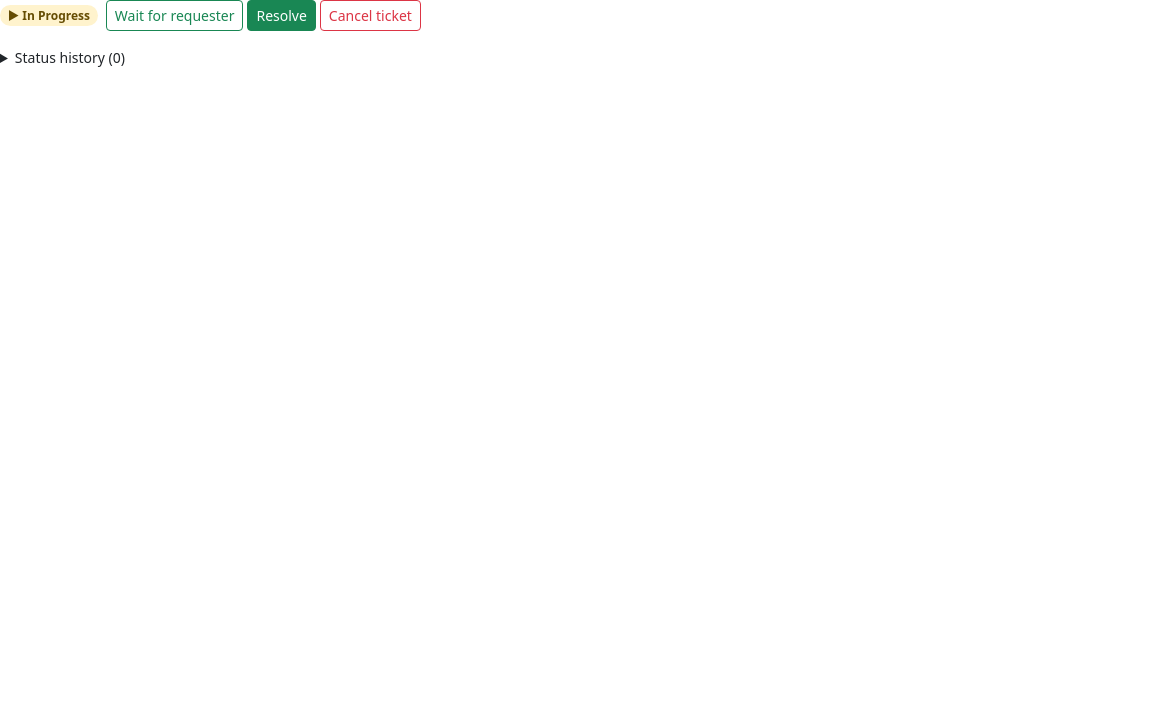
TicketWorkflowControl › UI-12 cancel dialog requires a reason, traps focus and closes with Escape
This screenshot has width=1152, height=720.
Expected: the heading "Status history (0)" is shown, [15,48,125,67]
Click the button "Cancel ticket": {"x": 370, "y": 16} [320,0,421,31]
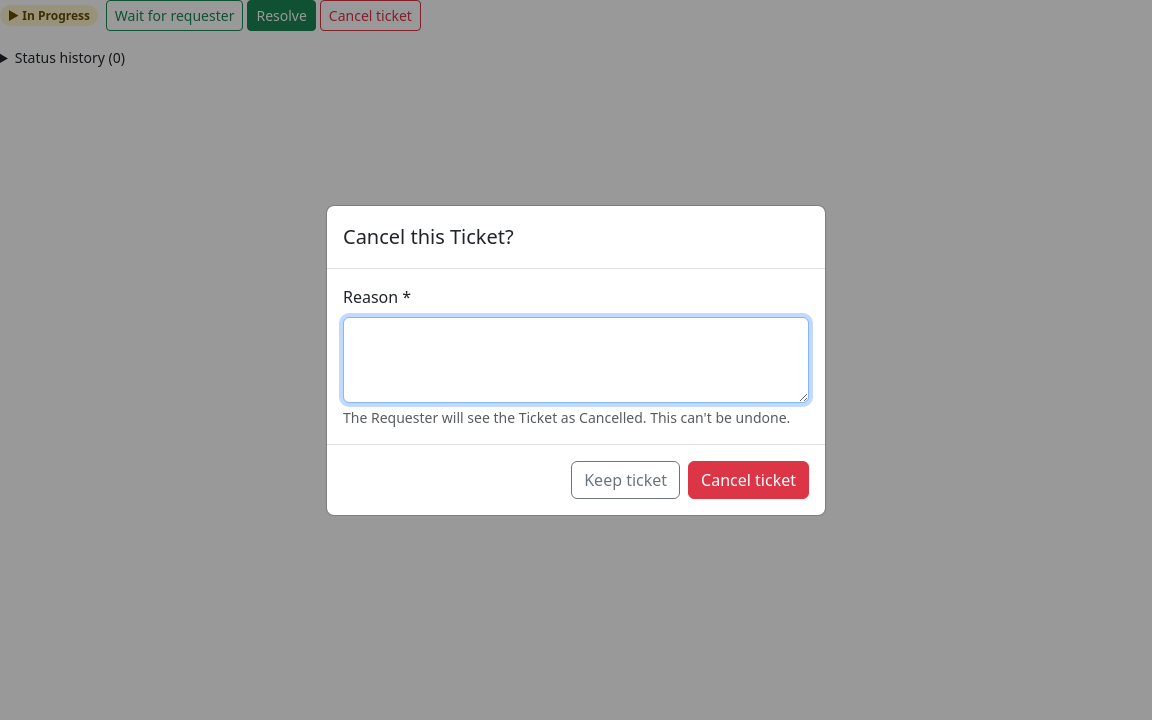
# Confirm without a reason → error, no request
Click the button "Cancel ticket": {"x": 749, "y": 480} [688,460,809,498]
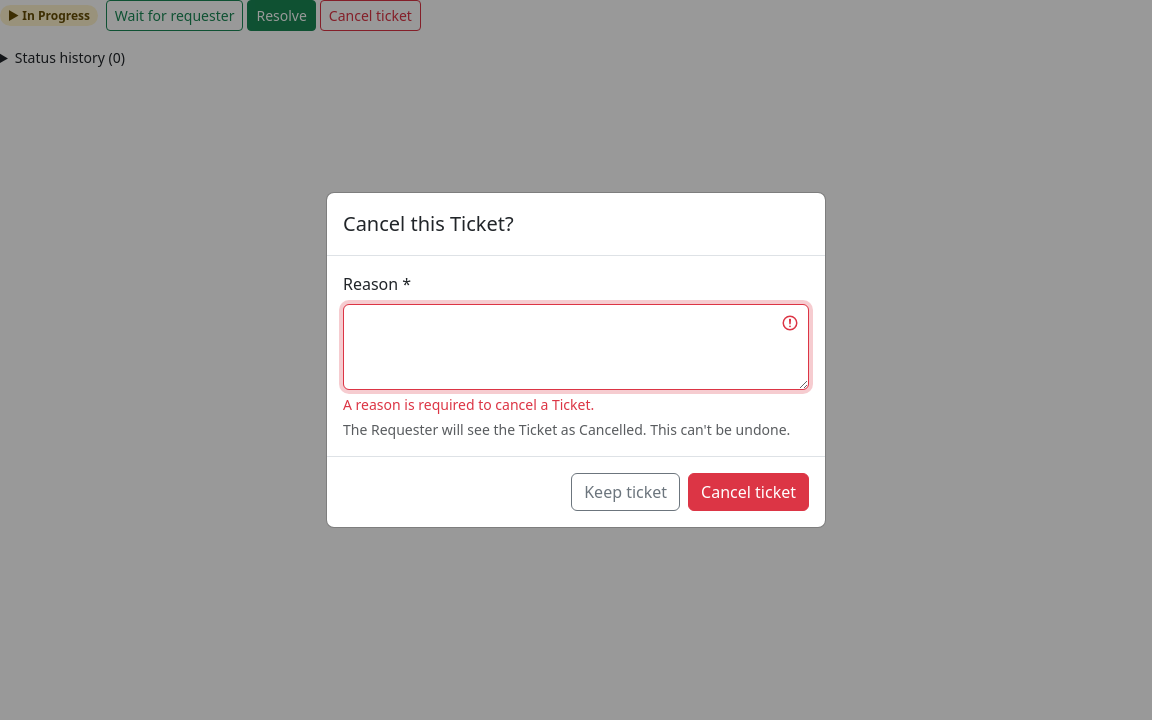
Expected: the text "A reason is required to cancel a Ticket." is shown, [343,395,594,414]
# Tab cycles inside the dialog
Press Tab
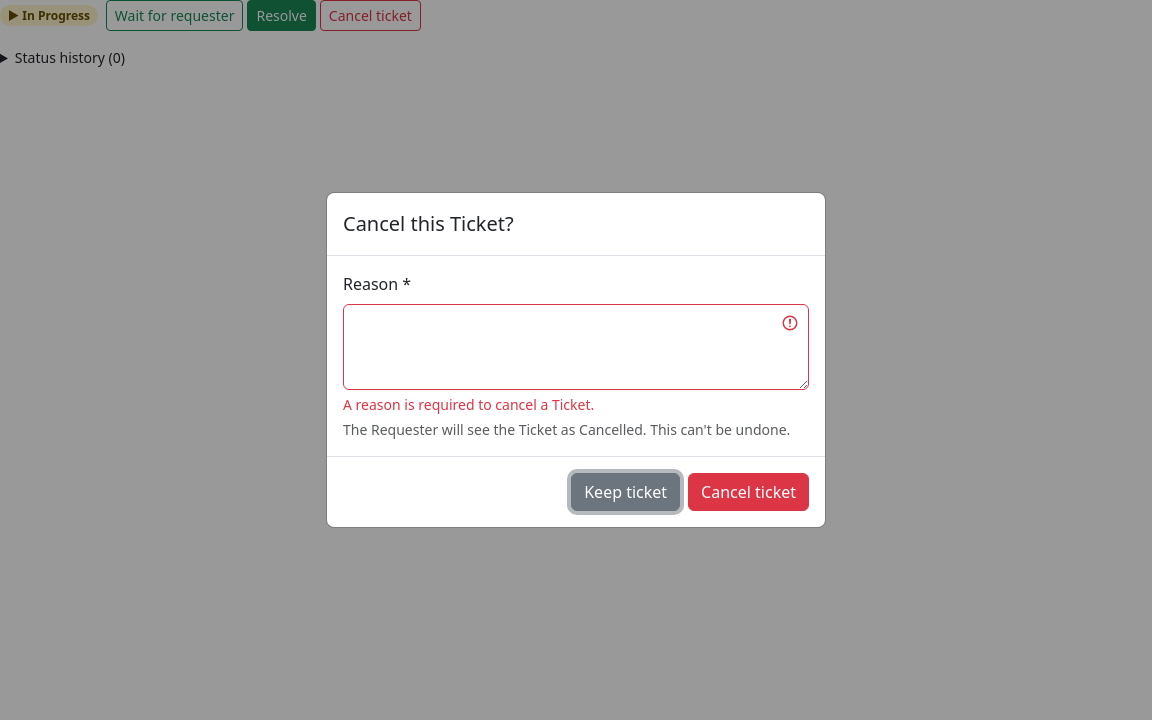
Press Tab
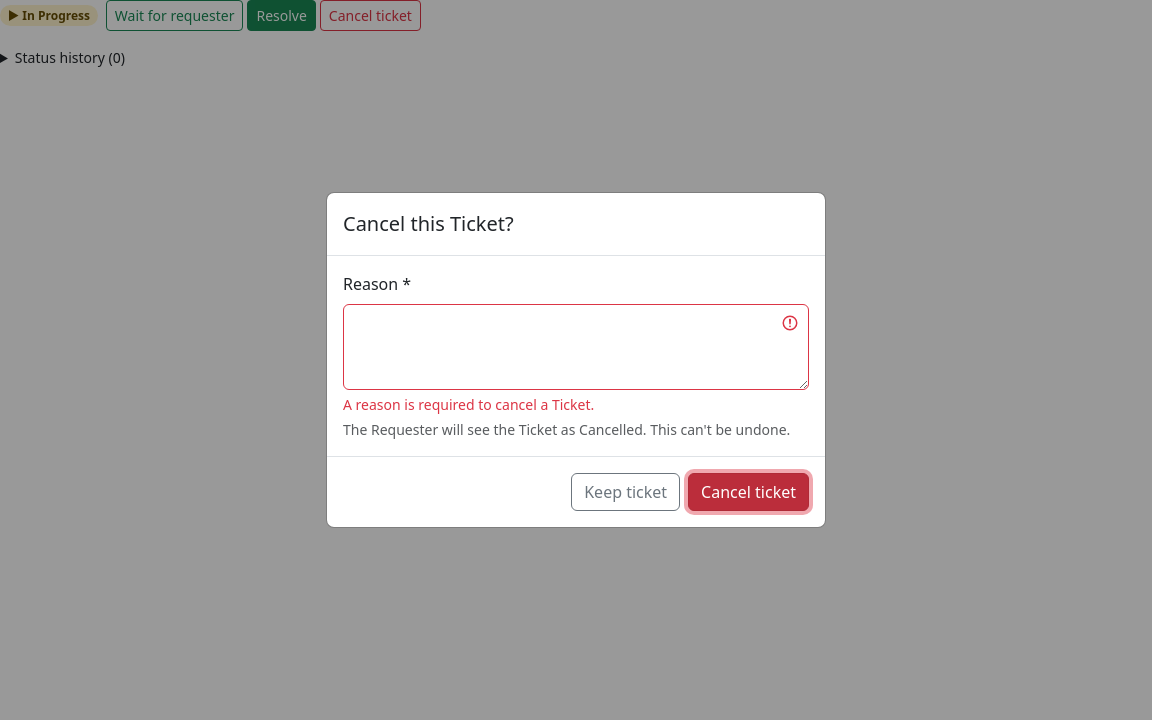
Press Tab
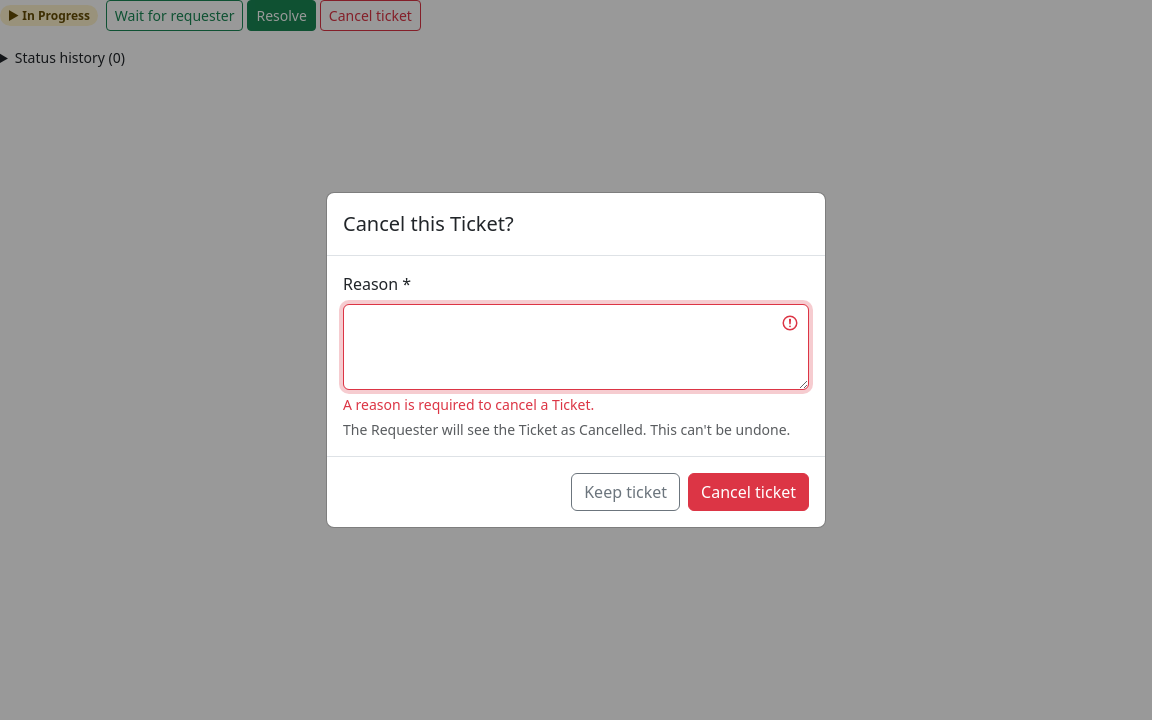
Press Escape
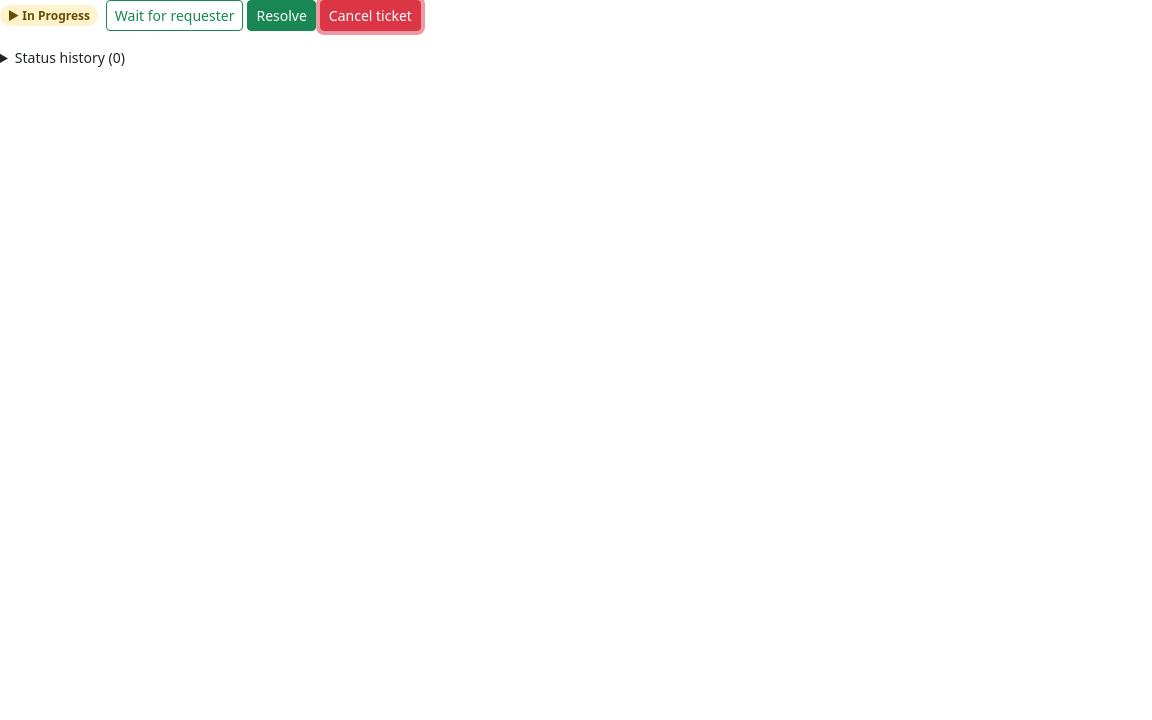
Expected: the dialog is gone
